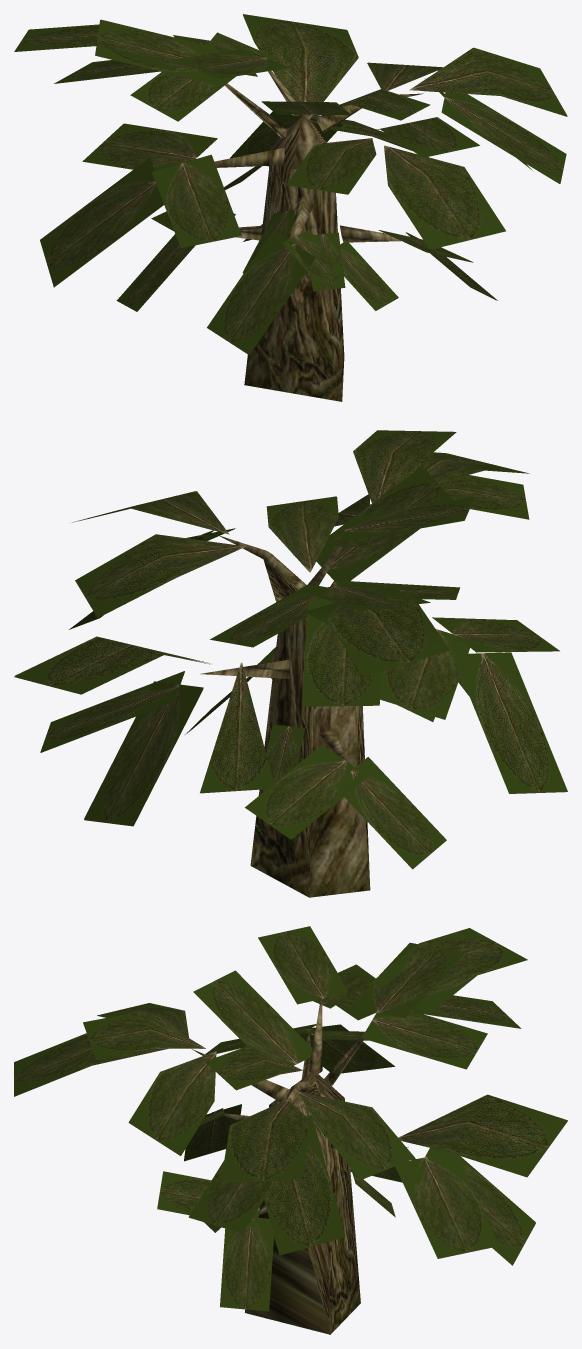
The model's file is decd_megaleaf_l2.fbx.
3 renders of one model, top to bottom at view 1: azimuth 30°, elevation 25°; view 2: azimuth 150°, elevation 25°; view 3: azimuth 270°, elevation 25°, orthographic. The views are drawn at different scales.
Parts seen in each view (by area): view 1: mesh_node; view 2: mesh_node; view 3: mesh_node.
Part boxes in pixels (x1=…): mesh_node: x1=14, y1=14, x2=567, y2=401; mesh_node: x1=14, y1=430, x2=567, y2=897; mesh_node: x1=14, y1=926, x2=567, y2=1334.
Bounding box in the file's own units: 8.66 × 6.16 × 9.5.
